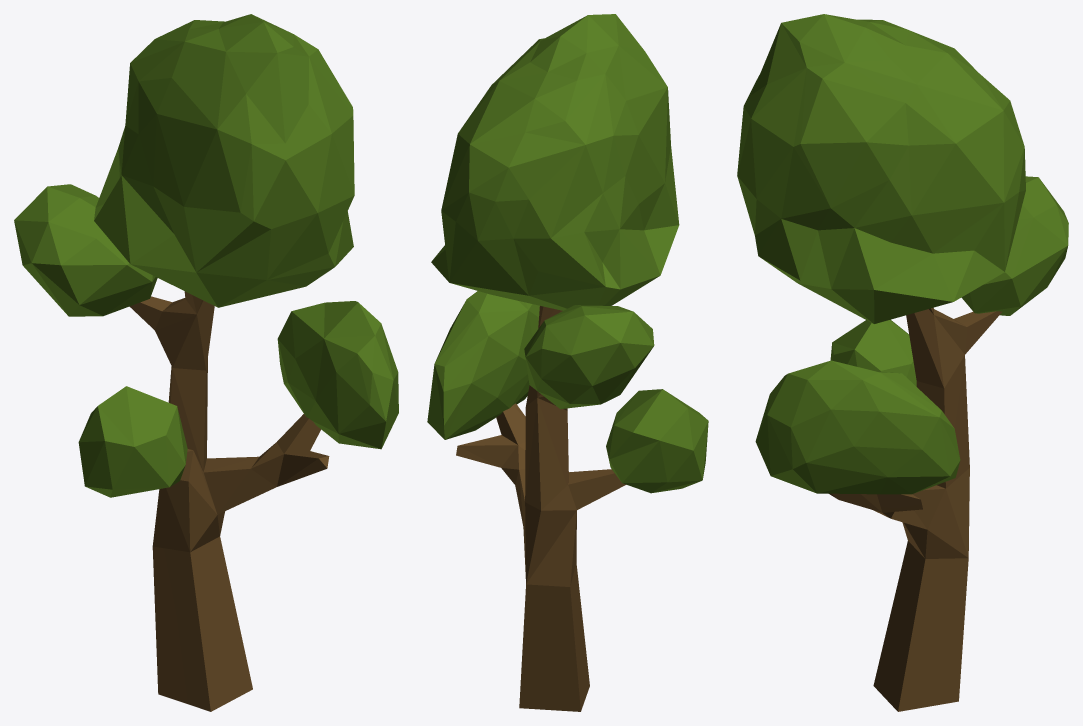
The model's file is tree.fbx.
3 views of the same model, side by side, from view 1: azimuth 30°, elevation 25°; view 2: azimuth 150°, elevation 25°; view 3: azimuth 270°, elevation 25° (orthographic). The views are drawn at different scales.
Parts seen in each view (by area): view 1: Tree1; view 2: Tree1; view 3: Tree1.
Part boxes in pixels (bbox=[...]): Tree1: bbox=[14, 14, 398, 711]; Tree1: bbox=[427, 14, 708, 711]; Tree1: bbox=[737, 14, 1068, 711].
Bounding box in the file's own units: 980 × 2364 × 1038.
